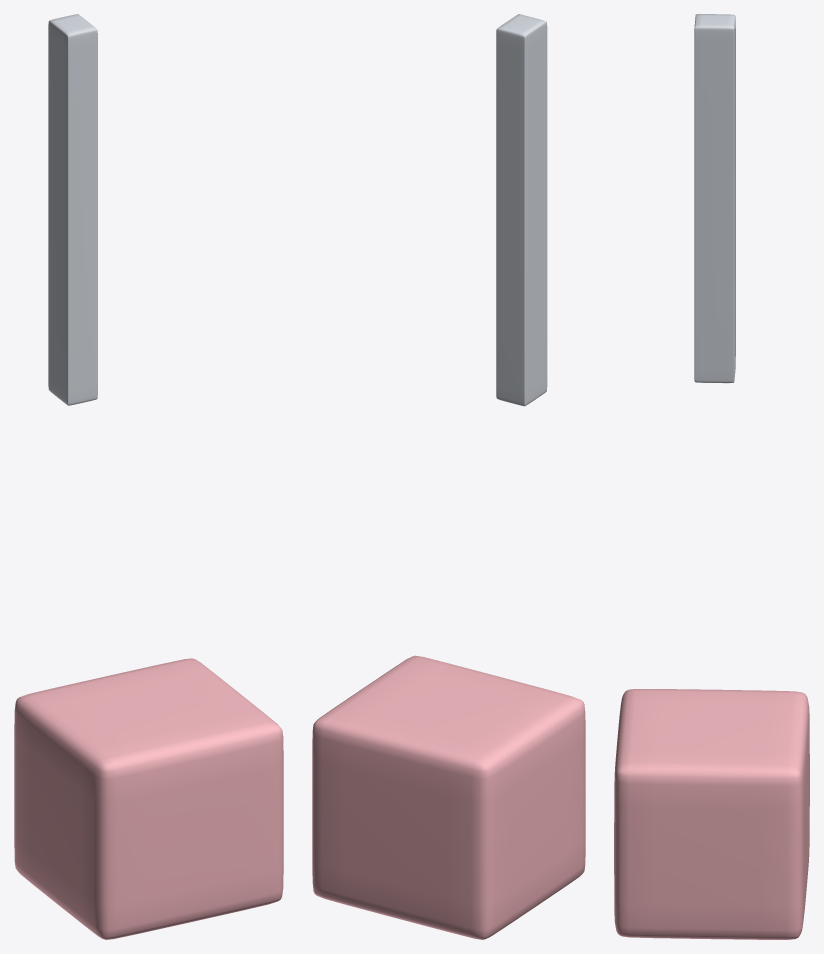
Rendered from PROP_Stroller_v1.glb.
3 views of the same model, side by side, from view 1: azimuth 30°, elevation 25°; view 2: azimuth 150°, elevation 25°; view 3: azimuth 270°, elevation 25° (orthographic). The views are drawn at different scales.
Visible parts, largest first — view 1: PROP_Stroller_v1; view 2: PROP_Stroller_v1; view 3: PROP_Stroller_v1.
Boxes of the visible parts, left/top/right/bottom form: PROP_Stroller_v1: left=14, top=14, right=283, bottom=939; PROP_Stroller_v1: left=312, top=14, right=585, bottom=939; PROP_Stroller_v1: left=614, top=14, right=809, bottom=939.
Bounding box in the file's own units: 1.08 × 4.83 × 1.01.
